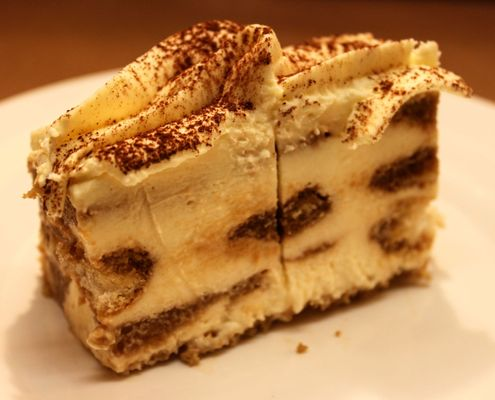soup: (25, 16, 447, 377)
